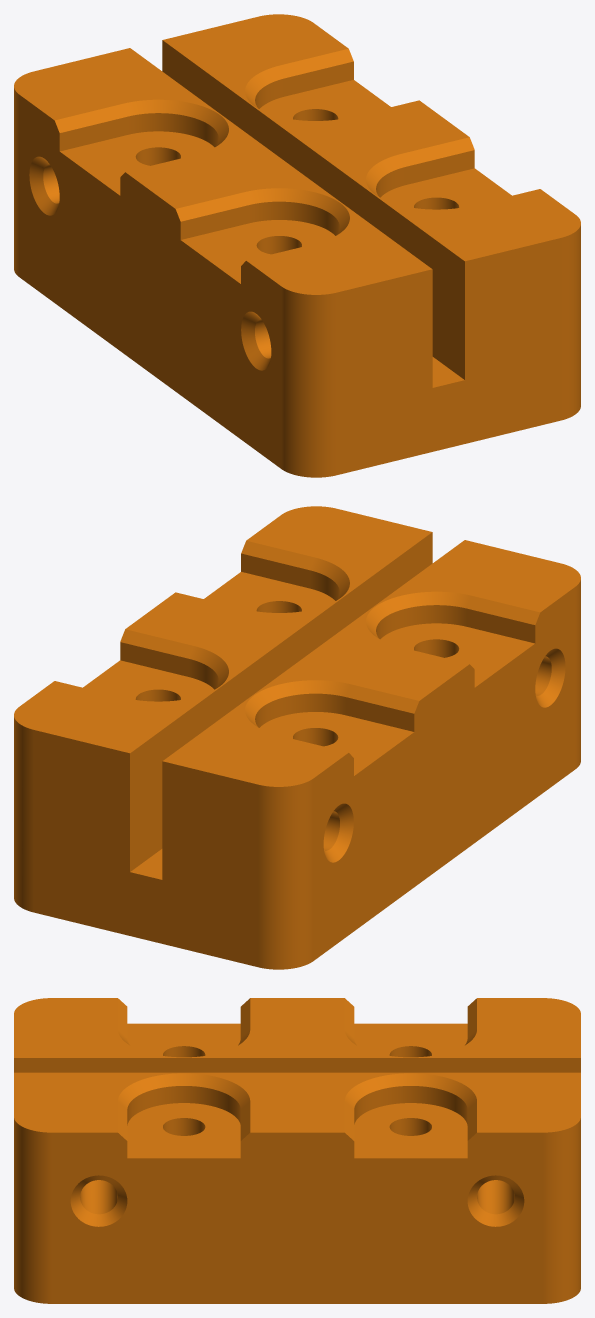
File: sujetador plancha aluminio_MIR1.obj
The picture shows the model from 3 angles, top to bottom: view 1: azimuth 30°, elevation 25°; view 2: azimuth 150°, elevation 25°; view 3: azimuth 270°, elevation 25°; orthographic projection. The views are drawn at different scales.
Visible parts, largest first — view 1: Solid1; view 2: Solid1; view 3: Solid1.
Part boxes in pixels (<box>): Solid1: <box>14,14,580,477</box>; Solid1: <box>14,506,580,969</box>; Solid1: <box>14,998,580,1303</box>.
Bounding box in the file's own units: 33.7 × 20 × 60.
